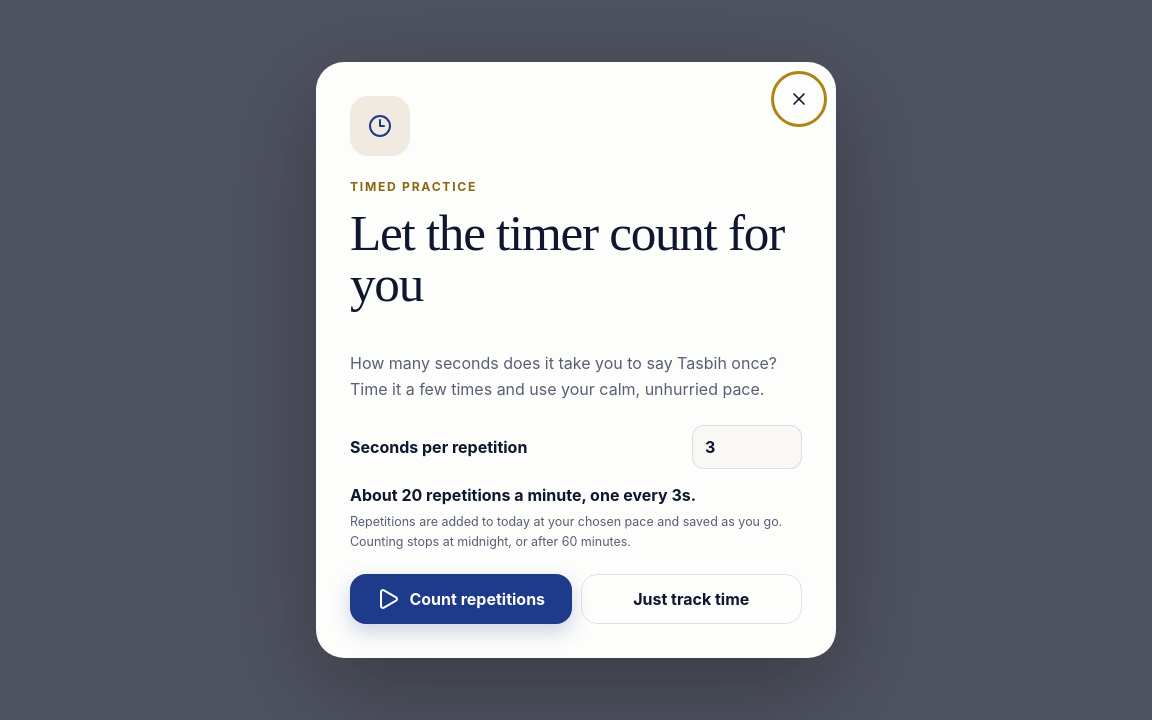
it: TimerSetup › refuses to start counting from a pace that is not a duration
Replace the text in the number field labelled "Seconds per repetition" with "0": (747, 447) [692,425,802,469]
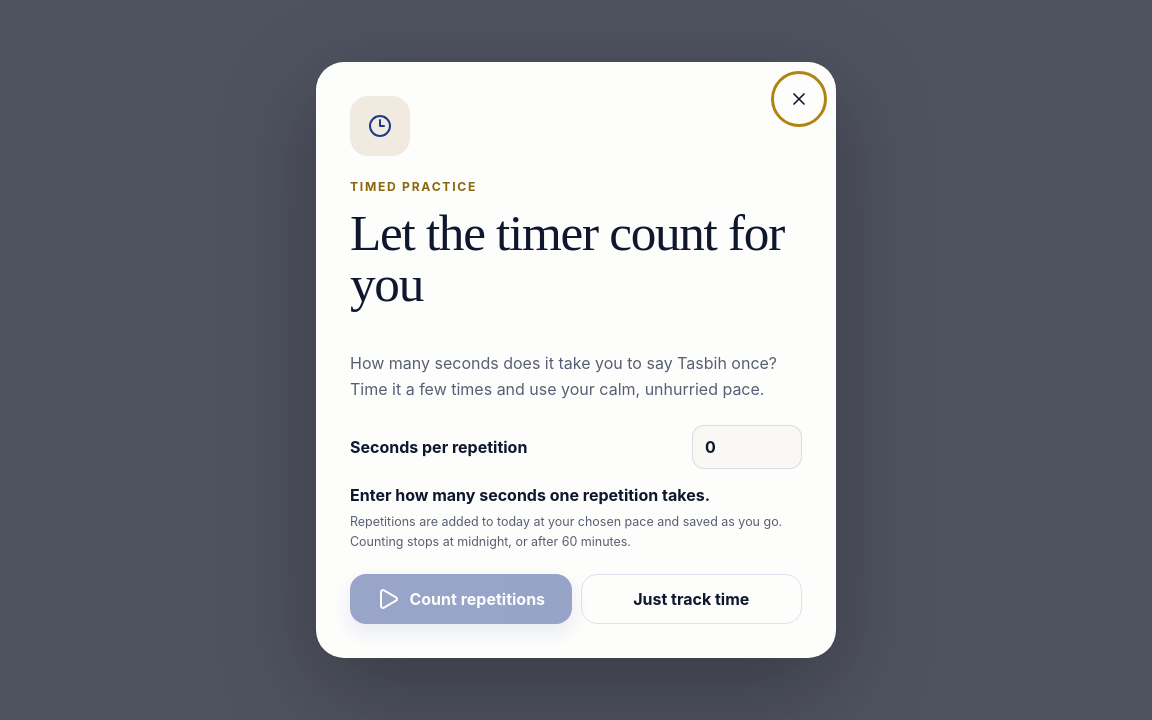
Expected: the button "Just track time" is enabled, [580,574,802,624]
Result: the button "Count repetitions" is disabled at [350,574,572,624]
Result: the text "Enter how many seconds one repetition takes." is shown at [350,485,710,505]
